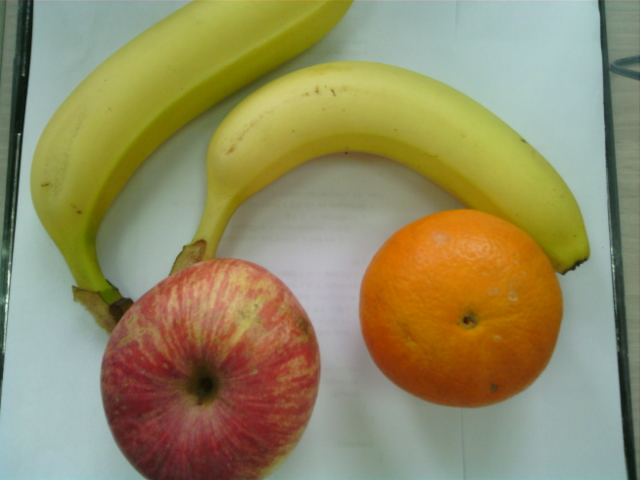normal_apple: (100, 258, 322, 480)
normal_banana: (31, 1, 354, 266), (205, 60, 589, 271)
normal_orange: (360, 208, 562, 409)
